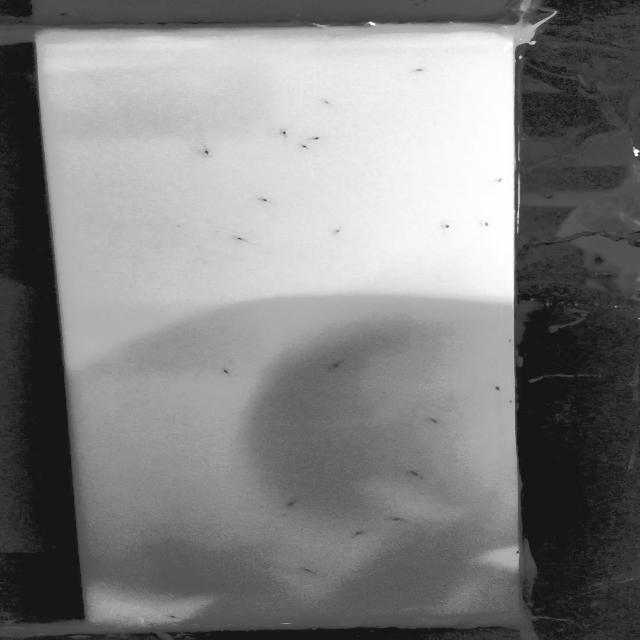shrimp: (329, 221, 352, 240), (252, 195, 285, 207), (328, 351, 344, 375), (232, 232, 259, 245), (477, 219, 501, 232), (195, 134, 209, 156), (407, 469, 433, 480), (484, 174, 510, 185), (437, 220, 462, 231), (307, 133, 337, 142), (219, 366, 238, 379), (401, 67, 431, 75), (352, 527, 370, 540), (285, 494, 306, 505), (389, 516, 412, 526), (486, 386, 508, 396), (293, 142, 320, 150), (162, 613, 192, 620), (428, 413, 448, 423), (299, 566, 318, 576), (277, 127, 294, 138), (318, 99, 339, 107)
